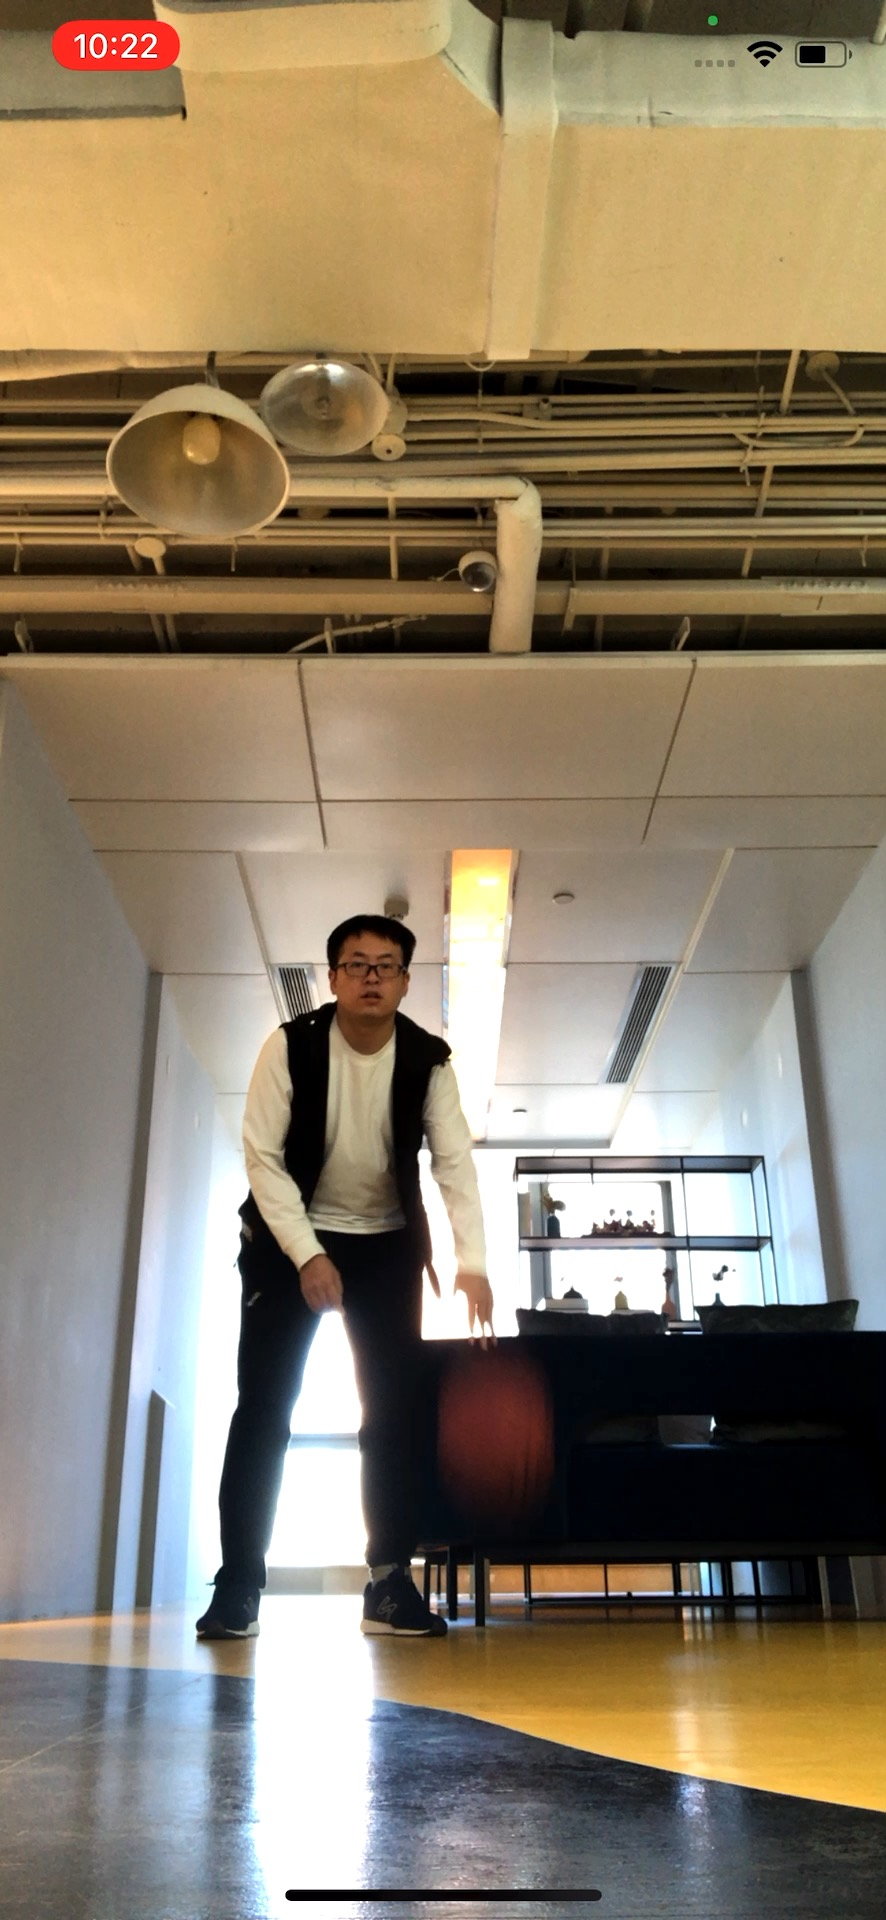ball: (437, 1376, 551, 1487)
